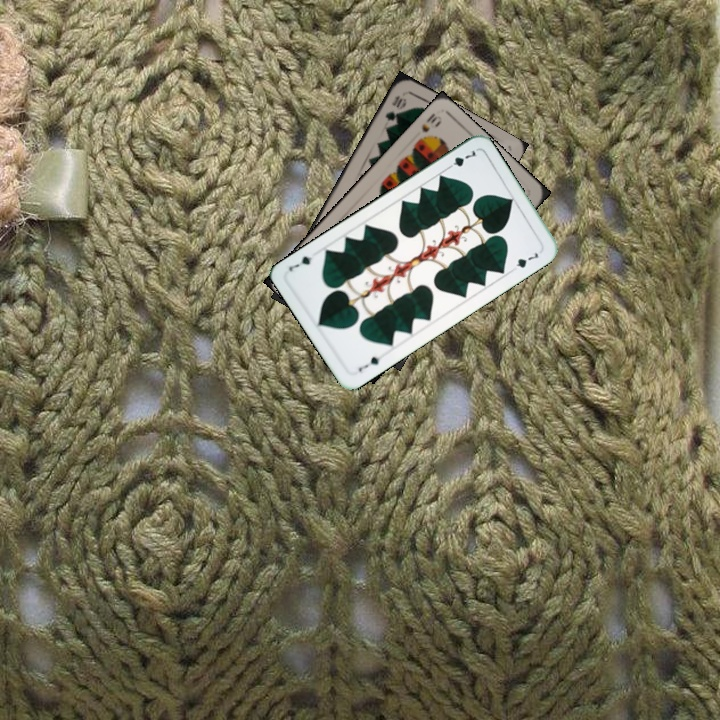G10: (381, 91, 409, 124)
G7: (442, 146, 480, 172), (354, 352, 382, 375)
S10: (414, 109, 445, 144)
